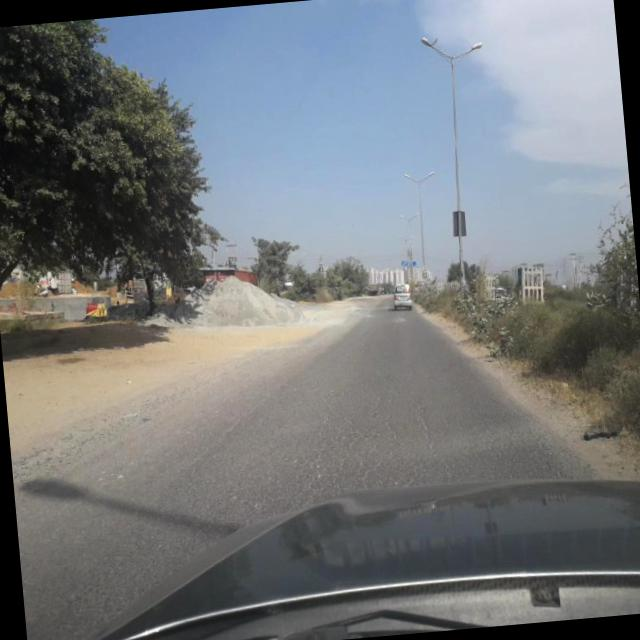crack: (184, 348, 498, 512)
pothole: (153, 356, 324, 486)
